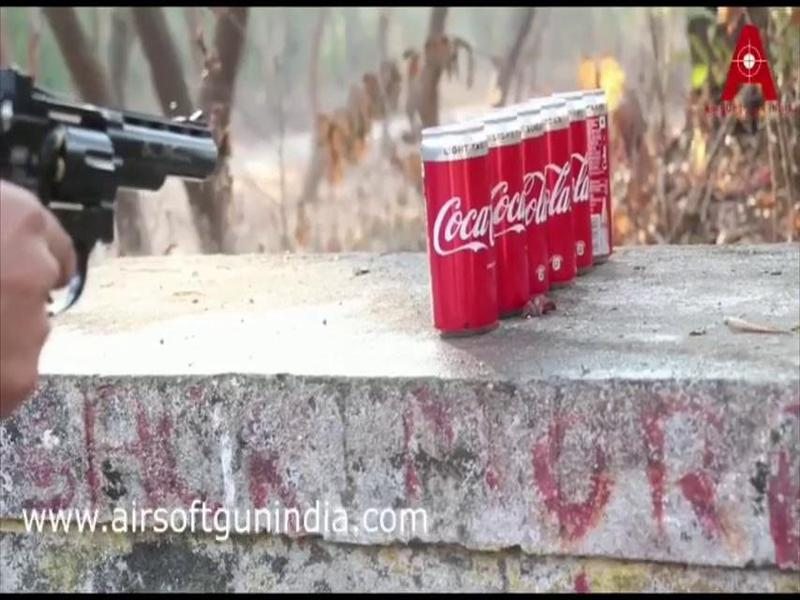Revolver: (5, 21, 226, 322)
